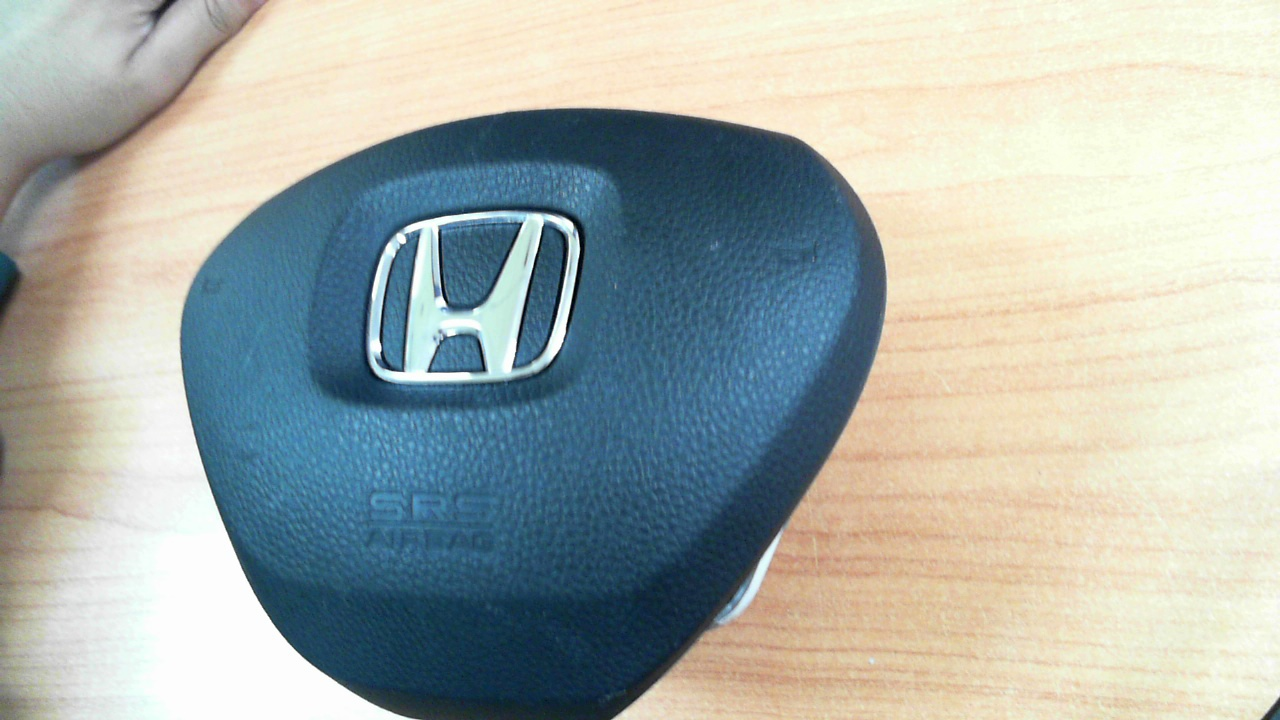Airbag: (177, 107, 889, 720)
Honda: (366, 209, 585, 385)
